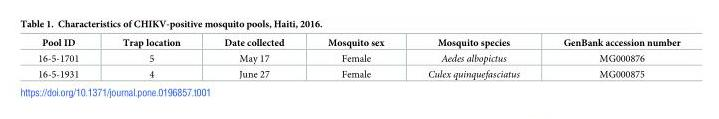table: (37, 37, 679, 80)
table column: (540, 37, 679, 80), (405, 37, 540, 80), (201, 37, 305, 80), (100, 37, 201, 80), (305, 37, 405, 80), (37, 37, 100, 80)
table column header: (37, 37, 679, 49)
table row: (37, 49, 679, 65), (37, 65, 679, 80), (37, 37, 679, 49)
